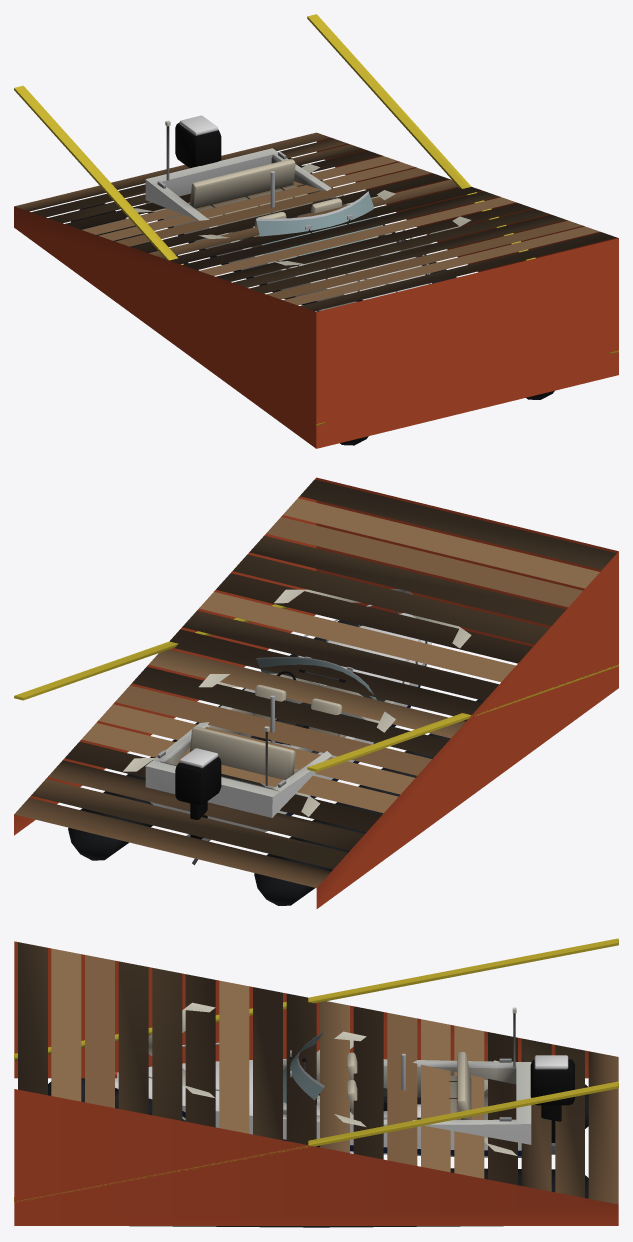
Rendered from boats.glb.
3 renders of one model, top to bottom at view 1: azimuth 30°, elevation 25°; view 2: azimuth 150°, elevation 25°; view 3: azimuth 270°, elevation 25°, orthographic.
Visible parts, largest first — view 1: ramp_LOD0, speedboat_LOD0; view 2: ramp_LOD0, speedboat_LOD0; view 3: ramp_LOD0, speedboat_LOD0.
Part boxes in pixels (left/top/right/bottom): ramp_LOD0: left=14, top=14, right=618, bottom=448; speedboat_LOD0: left=145, top=115, right=431, bottom=311; ramp_LOD0: left=14, top=477, right=618, bottom=908; speedboat_LOD0: left=145, top=604, right=431, bottom=865; ramp_LOD0: left=14, top=938, right=618, bottom=1227; speedboat_LOD0: left=115, top=1007, right=574, bottom=1157.
Size of what is drawn, in the model's own units: 5.2 by 2.75 by 9.01.
